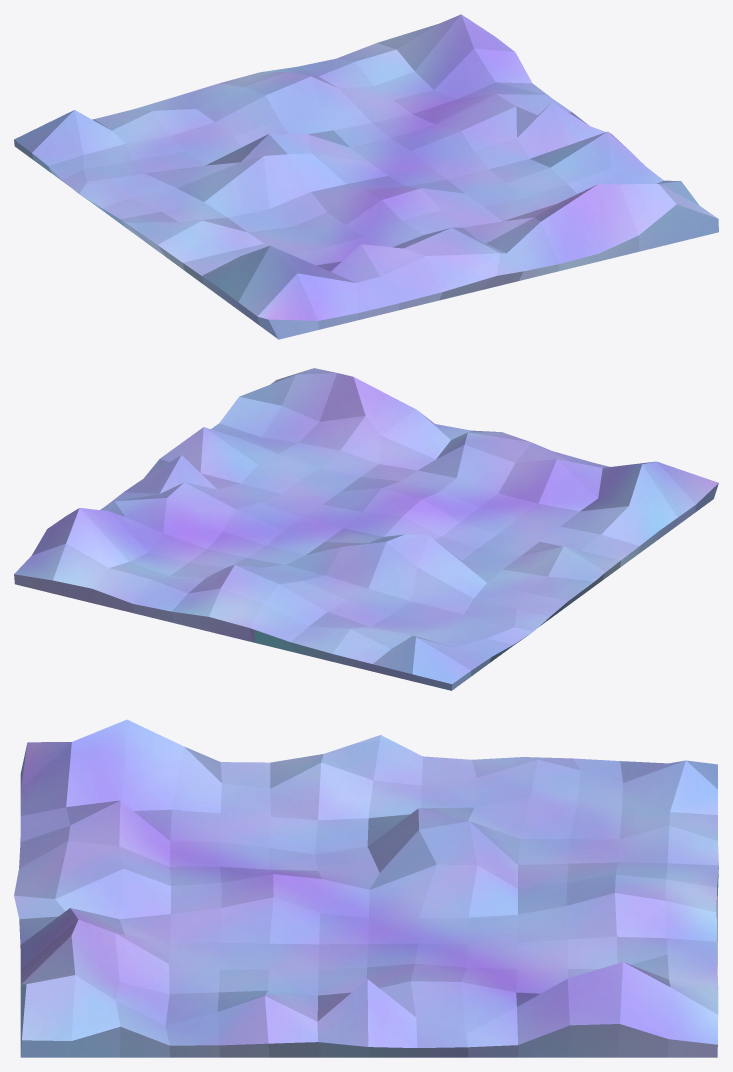
Rendered from suelo.glb.
The picture shows the model from 3 angles, top to bottom: view 1: azimuth 30°, elevation 25°; view 2: azimuth 150°, elevation 25°; view 3: azimuth 270°, elevation 25°; orthographic projection. The views are drawn at different scales.
Parts seen in each view (by area): view 1: suelo; view 2: suelo; view 3: suelo.
Part boxes in pixels (left/top/right/bottom): suelo: left=14, top=14, right=718, bottom=339; suelo: left=14, top=368, right=718, bottom=690; suelo: left=14, top=719, right=718, bottom=1057.
Size of what is drawn, in the model's own units: 25 by 3 by 25.
Materials: 1 (1 with a texture image).
